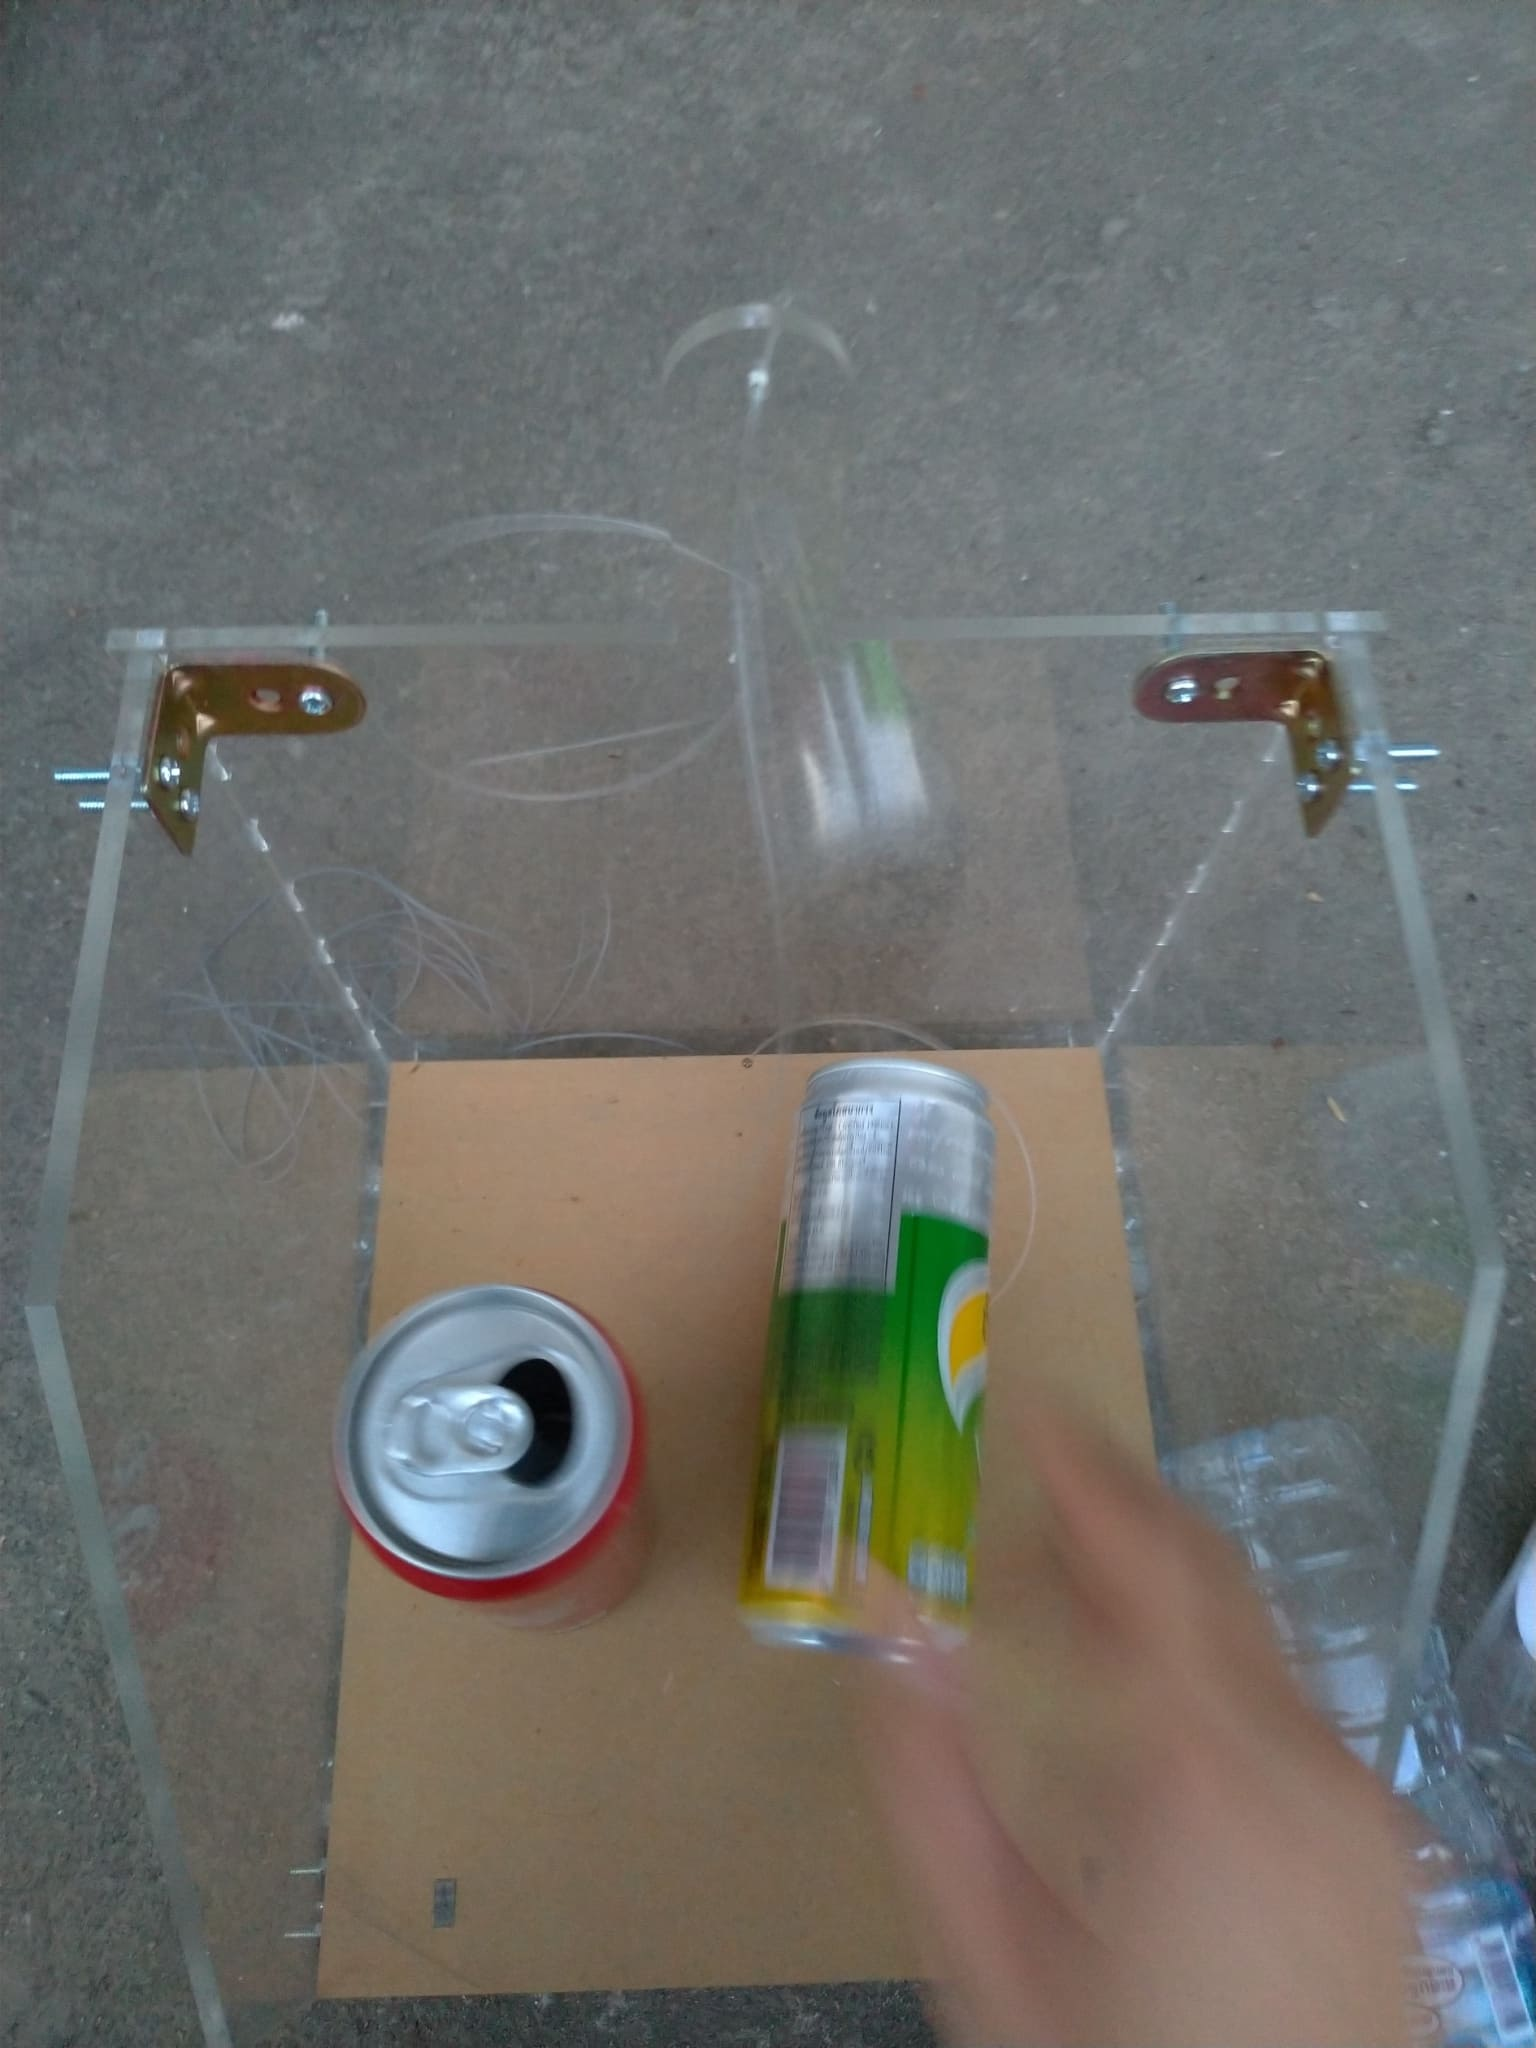AlCan: (741, 1055, 991, 1651), (337, 1290, 666, 1635)
PlasticBottle: (1162, 1413, 1536, 2016)
